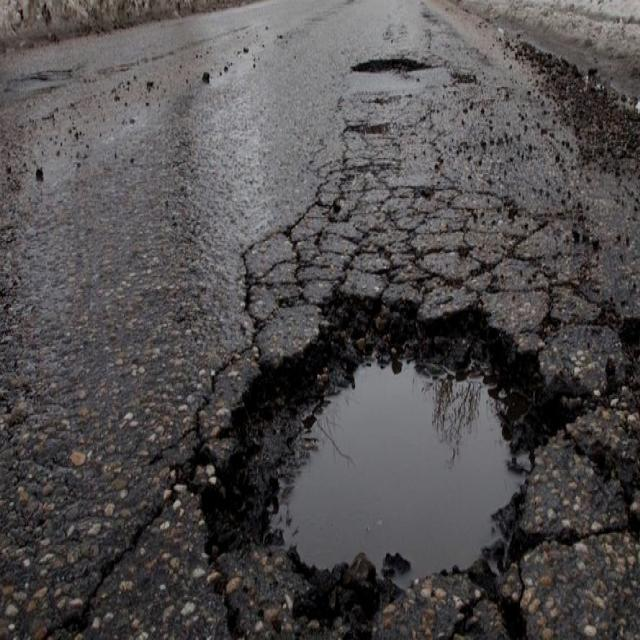road-pothole: (242, 292, 570, 602), (352, 49, 440, 80)
